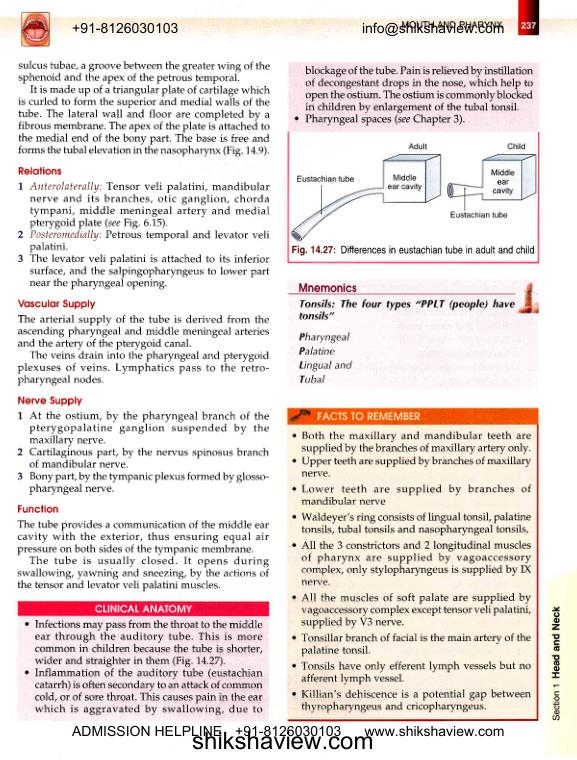caption: (291, 244, 535, 257), (316, 411, 422, 422), (94, 604, 193, 614), (297, 281, 358, 293)
image: (290, 132, 537, 243)
list: (290, 429, 532, 715), (17, 180, 271, 292), (22, 617, 264, 718), (15, 409, 272, 496), (296, 330, 353, 384)
section-heading: (292, 64, 534, 128)
sub-section-heading: (16, 298, 97, 310), (17, 394, 84, 408), (17, 165, 63, 176), (16, 503, 61, 514)
text: (17, 60, 271, 158), (16, 519, 271, 593), (16, 313, 270, 387), (297, 297, 516, 321)
